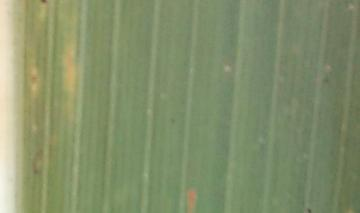tarspot: (303, 205, 317, 213), (38, 1, 51, 8)
